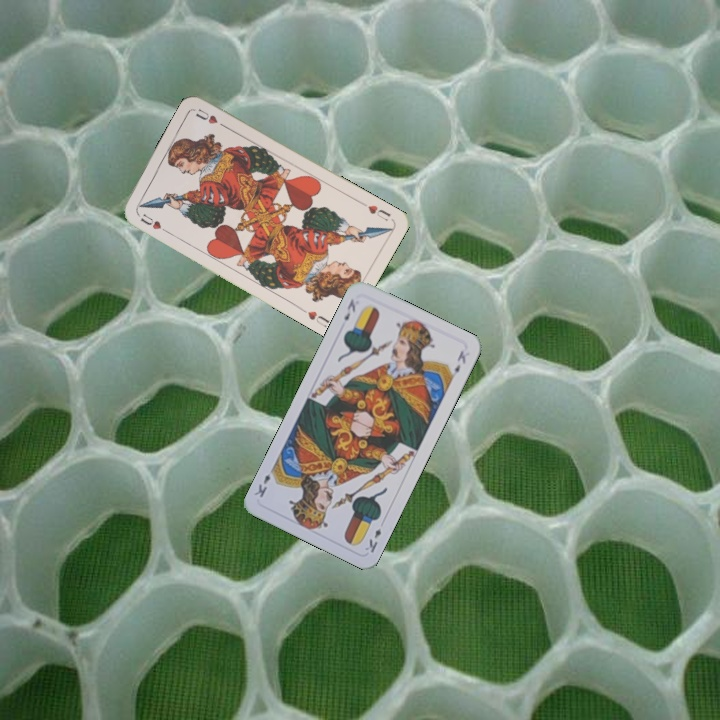EK: (361, 524, 384, 555), (340, 295, 358, 323)
HU: (357, 198, 393, 223), (136, 210, 171, 235)
